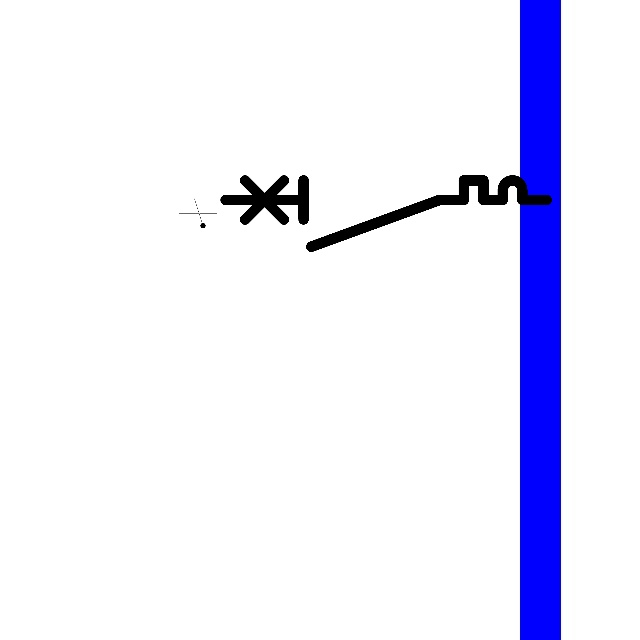interruptor_termomagnetico: (217, 172, 555, 254)
